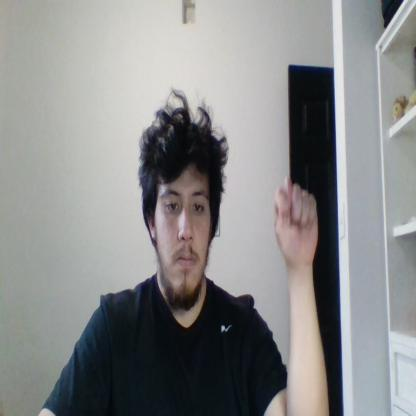T: (274, 176, 319, 266)
